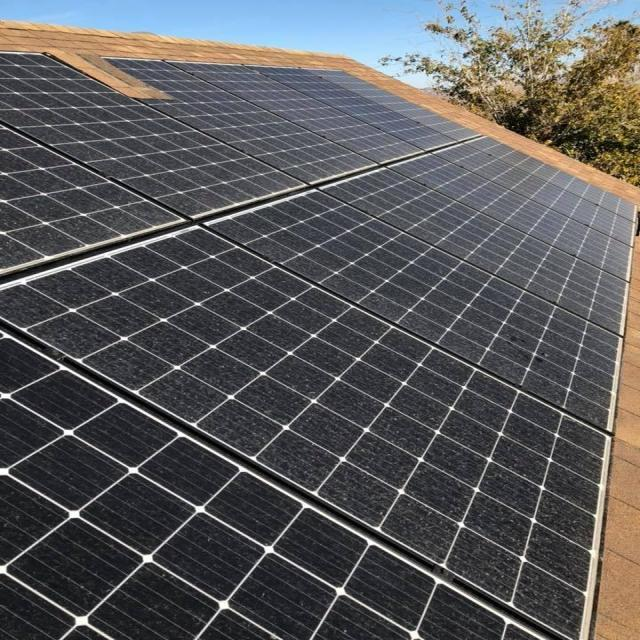soiled: (6, 50, 635, 640)
